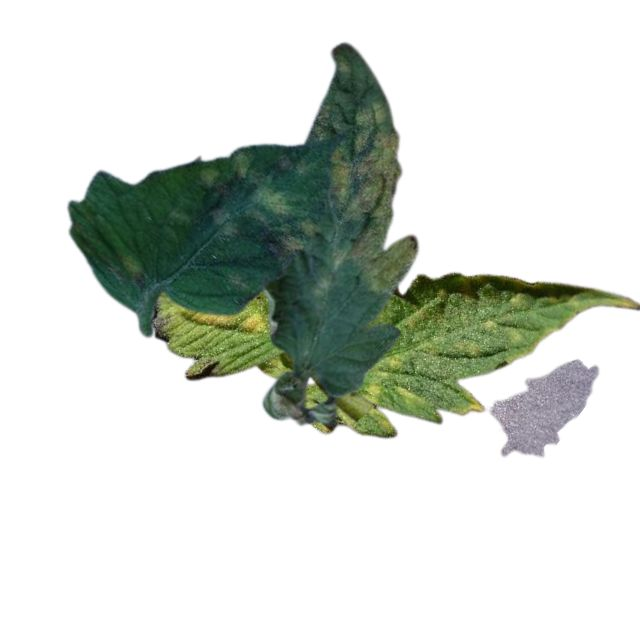Leaf_Mold: (351, 273, 638, 437), (310, 42, 417, 297), (196, 146, 318, 277), (168, 295, 267, 336)
